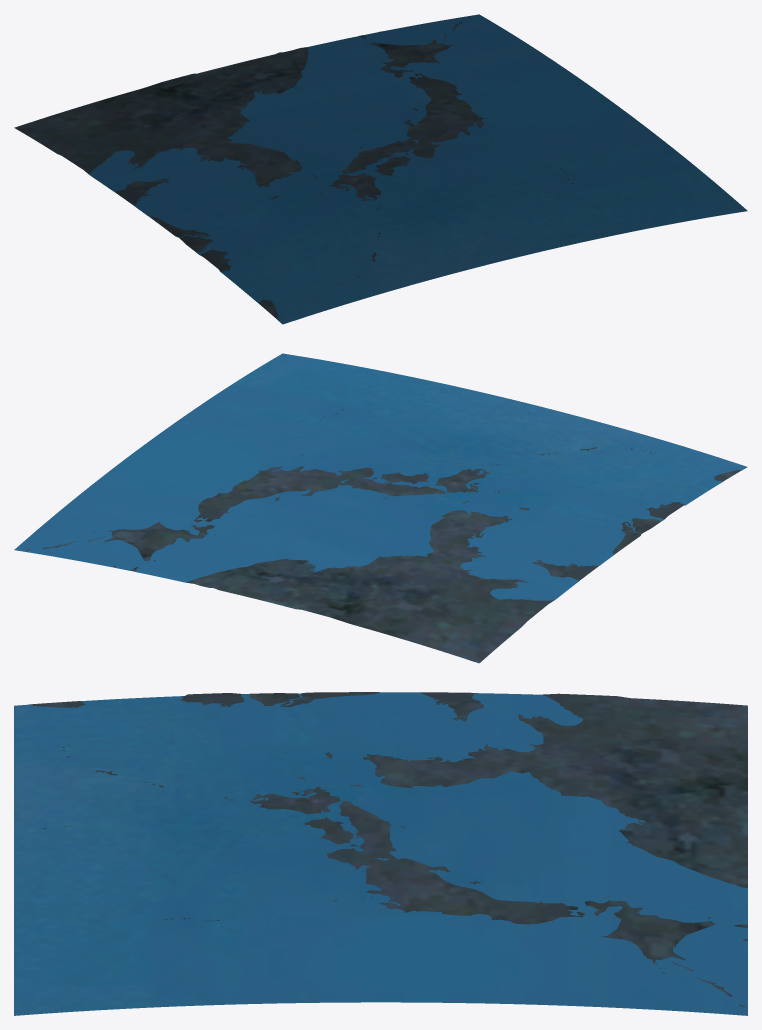
3 renders of one model, top to bottom at view 1: azimuth 30°, elevation 25°; view 2: azimuth 150°, elevation 25°; view 3: azimuth 270°, elevation 25°, orthographic. The views are drawn at different scales.
Parts seen in each view (by area): view 1: Joint_0_Object_0, Joint_0_Object_1; view 2: Joint_0_Object_0, Joint_0_Object_1; view 3: Joint_0_Object_0, Joint_0_Object_1.
Boxes of the visible parts, x1,y1,x2,y2 form: Joint_0_Object_0: (89, 14, 747, 324); Joint_0_Object_1: (14, 16, 576, 319); Joint_0_Object_0: (14, 353, 747, 600); Joint_0_Object_1: (26, 408, 742, 663); Joint_0_Object_0: (14, 692, 747, 1015); Joint_0_Object_1: (29, 692, 747, 1007).
Bounding box in the file's own units: 10000 × 429 × 10000.
